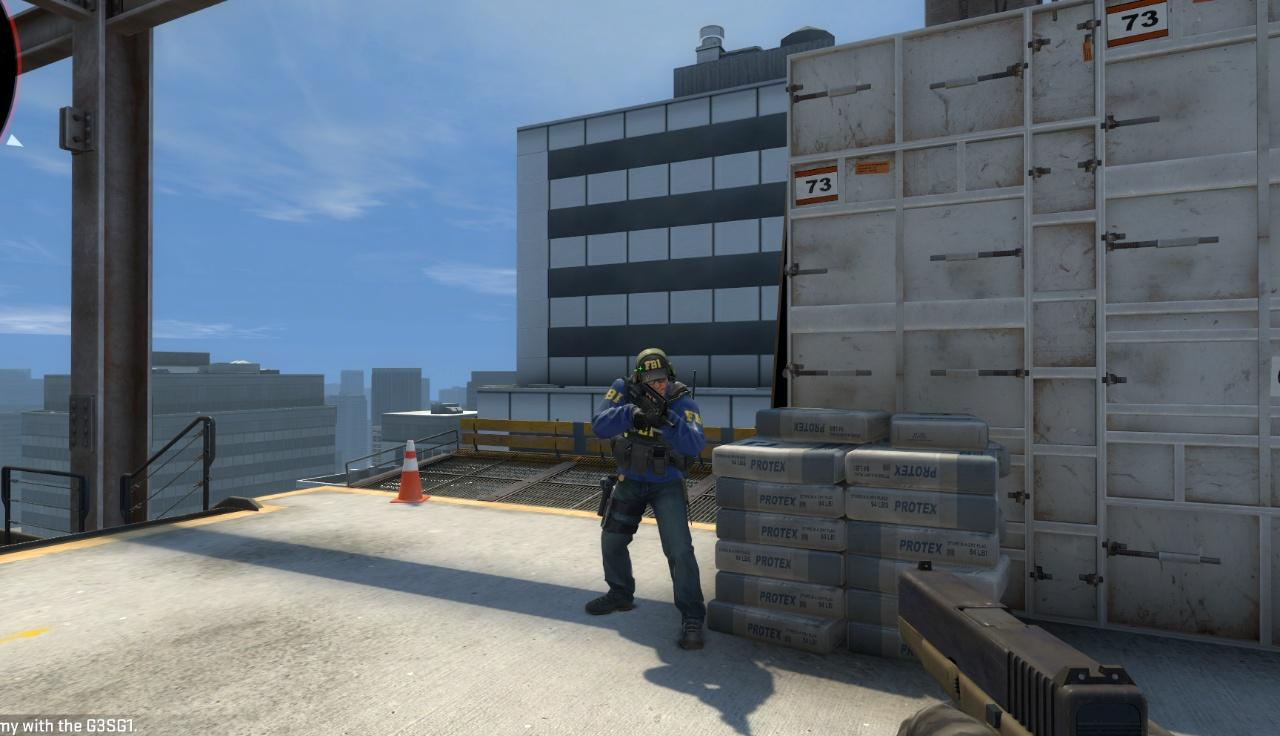ct: (612, 349, 693, 641)
cthead: (635, 349, 668, 397)
pistol: (881, 551, 1172, 736)
